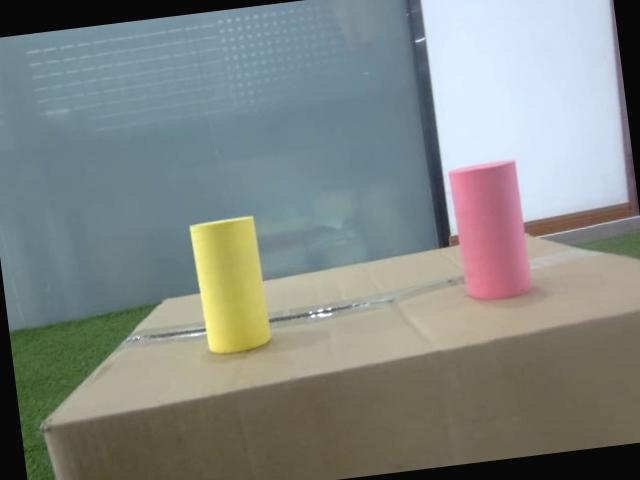red_cylinder: (447, 158, 533, 304)
yellow_cylinder: (189, 214, 272, 356)
